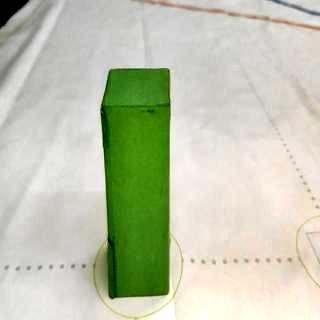greenbox: (98, 67, 174, 301)
